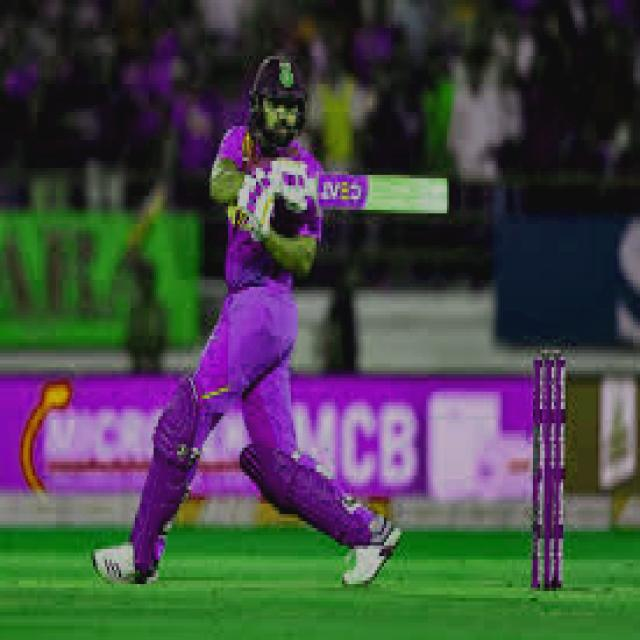toe: (424, 174, 448, 215)
